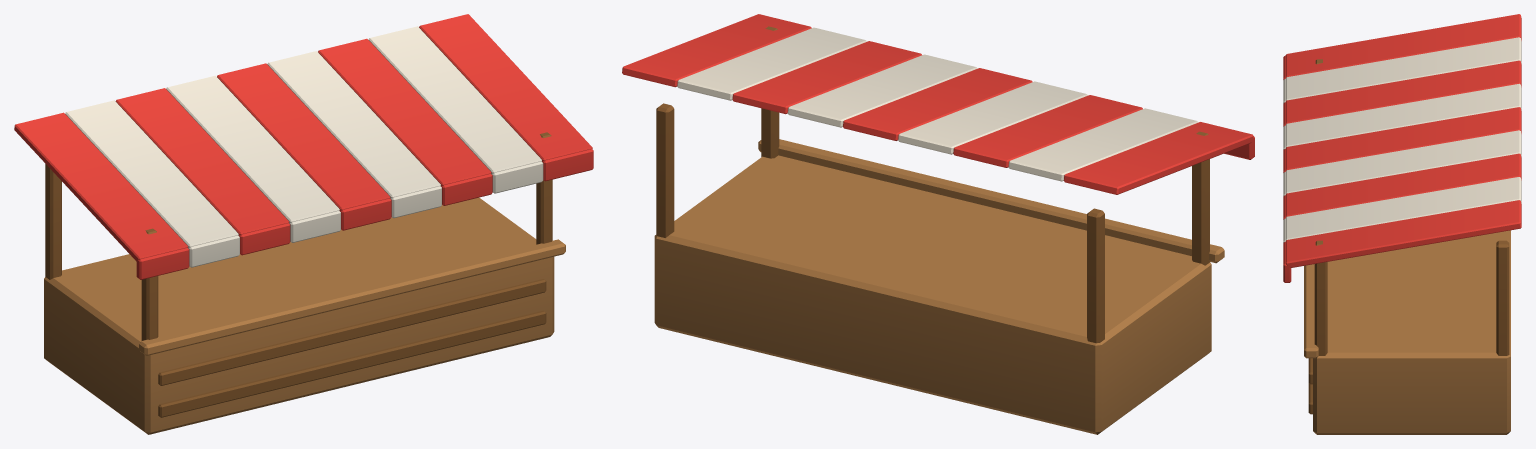
The model's file is stall.50fca5896411.glb.
The picture shows the model from 3 angles, left to right: view 1: azimuth 30°, elevation 25°; view 2: azimuth 150°, elevation 25°; view 3: azimuth 270°, elevation 25°; orthographic projection. The views are drawn at different scales.
Parts seen in each view (by area): view 1: stall_wood, stall_red, stall_cream, stall_dark; view 2: stall_wood, stall_red, stall_cream, stall_dark; view 3: stall_wood, stall_red, stall_cream, stall_dark.
Part boxes in pixels (x1,y1,x2,y2): stall_wood: [44, 197, 565, 434]; stall_red: [14, 14, 593, 279]; stall_cream: [65, 26, 543, 267]; stall_dark: [45, 132, 552, 434]; stall_wood: [654, 139, 1224, 434]; stall_red: [622, 14, 1254, 194]; stall_cream: [677, 27, 1198, 181]; stall_dark: [656, 26, 1209, 433]; stall_wood: [1304, 230, 1510, 434]; stall_red: [1283, 14, 1521, 282]; stall_cream: [1283, 37, 1521, 242]; stall_dark: [1308, 59, 1509, 414].
Size of the model in its own units: 5.99 by 3 by 2.89.
